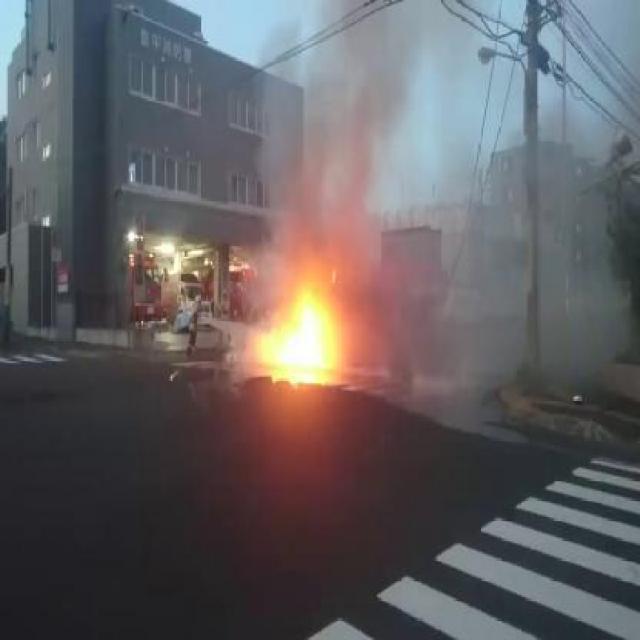Fire: (250, 290, 344, 372)
